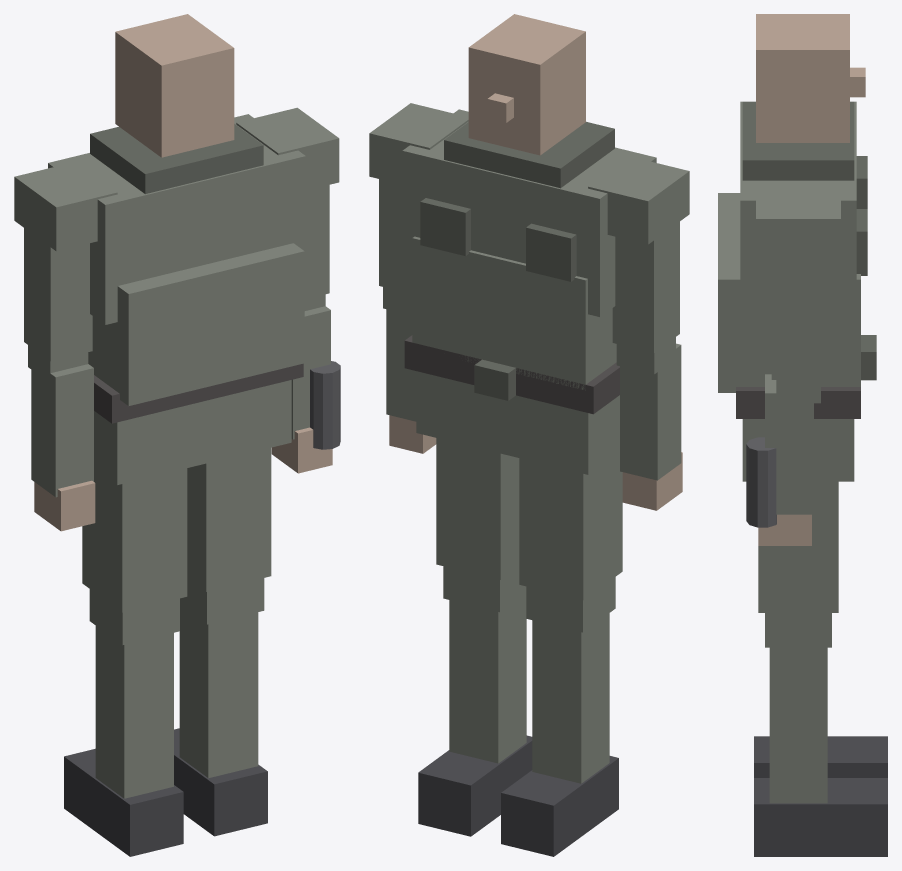
Rendered from crew_pena.glb.
3 views of the same model, side by side, from view 1: azimuth 30°, elevation 25°; view 2: azimuth 150°, elevation 25°; view 3: azimuth 270°, elevation 25° (orthographic). The views are drawn at different scales.
Parts seen in each view (by area): view 1: belly, chest, head, thigh_-1, hips, shin_1, shin_-1, thigh_1, farm_l, uarm_l, boot_-1, collar (+12 smaller); view 2: belly, chest, head, thigh_-1, hips, shin_-1, shin_1, thigh_1, boot_-1, uarm_l, farm_l, boot_1 (+16 smaller); view 3: head, shin_1, boot_1, belly, chest, thigh_1, uarm_r, shldr_1, farm_r, collar, hips, boot_-1 (+9 smaller).
Boxes of the visible parts, bbox=[...] form: belly: bbox=[88, 243, 304, 405]; chest: bbox=[48, 114, 305, 324]; head: bbox=[115, 14, 234, 157]; thigh_-1: bbox=[82, 468, 187, 612]; hips: bbox=[94, 380, 291, 484]; shin_1: bbox=[179, 605, 258, 778]; shin_-1: bbox=[95, 626, 173, 798]; thigh_1: bbox=[187, 448, 271, 591]; farm_l: bbox=[31, 360, 93, 497]; uarm_l: bbox=[24, 228, 92, 361]; boot_-1: bbox=[64, 748, 183, 856]; collar: bbox=[90, 124, 263, 193]; belly: bbox=[412, 236, 616, 390]; chest: bbox=[402, 109, 656, 316]; head: bbox=[468, 14, 585, 155]; thigh_-1: bbox=[519, 452, 622, 600]; hips: bbox=[416, 371, 619, 474]; shin_-1: bbox=[532, 613, 609, 783]; shin_1: bbox=[449, 593, 526, 763]; thigh_1: bbox=[436, 438, 519, 579]; boot_-1: bbox=[501, 756, 618, 856]; uarm_l: bbox=[612, 221, 679, 352]; farm_l: bbox=[620, 343, 681, 480]; boot_1: bbox=[418, 735, 532, 836]; head: bbox=[756, 14, 849, 142]; shin_1: bbox=[769, 647, 827, 803]; boot_1: bbox=[754, 778, 887, 856]; belly: bbox=[718, 193, 860, 392]; chest: bbox=[740, 101, 856, 322]; thigh_1: bbox=[758, 481, 838, 612]; uarm_r: bbox=[771, 263, 825, 379]; shldr_1: bbox=[756, 189, 840, 263]; farm_r: bbox=[765, 374, 813, 514]; collar: bbox=[742, 101, 854, 180]; hips: bbox=[742, 419, 854, 481]; boot_-1: bbox=[754, 736, 887, 777].
Size of the model in its own units: 0.7452 by 1.96 by 0.38.
